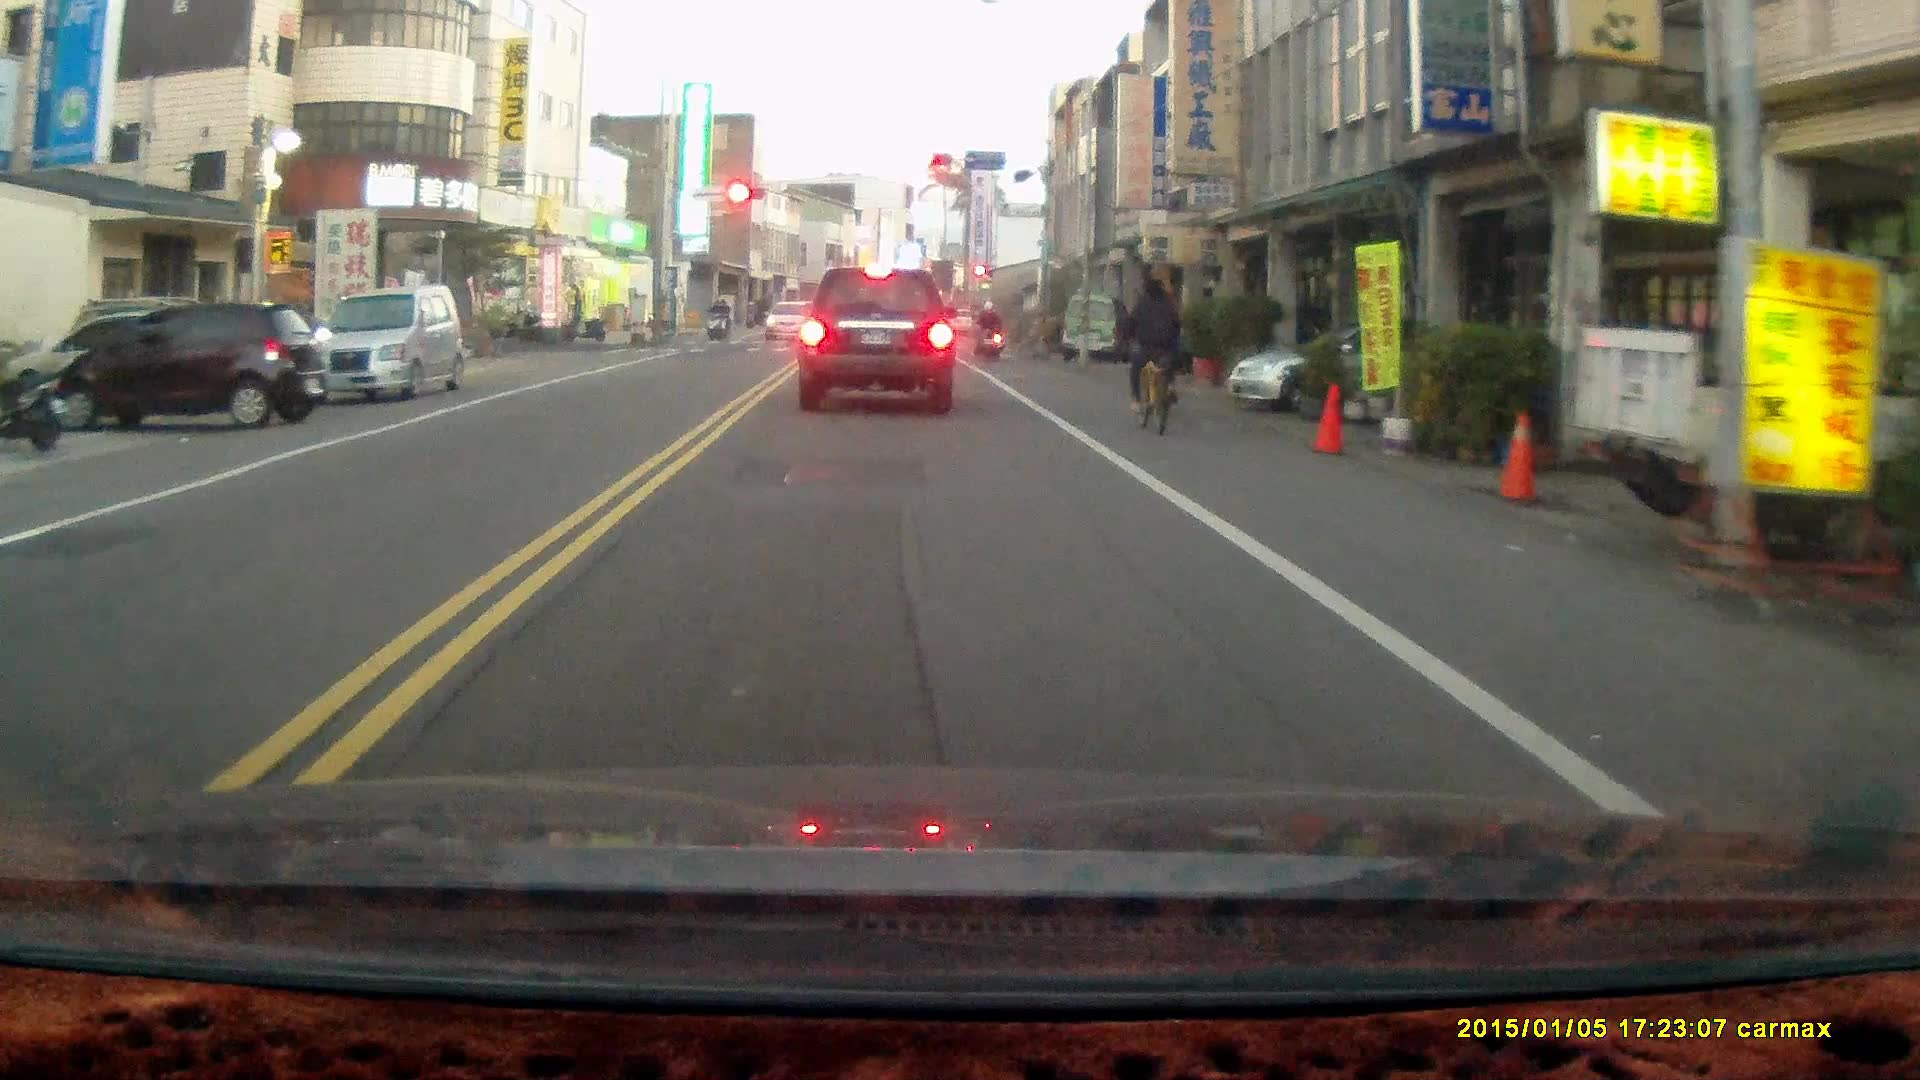rider: (1122, 273, 1179, 435), (969, 297, 1001, 362), (703, 297, 727, 344)
vehicle: (38, 297, 323, 434), (1223, 323, 1499, 422), (794, 265, 956, 416), (301, 284, 465, 406), (1060, 294, 1125, 363)
